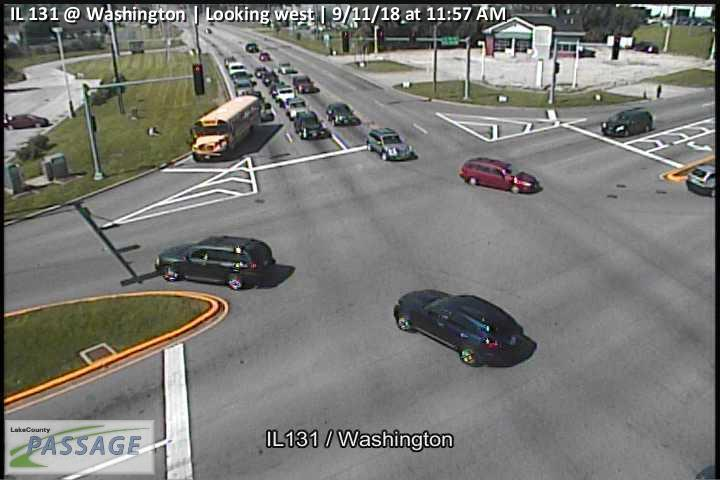Bus: (188, 96, 261, 162)
SUV: (154, 236, 277, 290), (459, 157, 541, 195), (599, 108, 654, 139)
Sedan: (393, 288, 537, 369), (365, 124, 415, 163), (292, 111, 329, 140), (324, 101, 362, 127), (4, 112, 50, 129), (293, 73, 320, 95), (285, 96, 309, 119)
